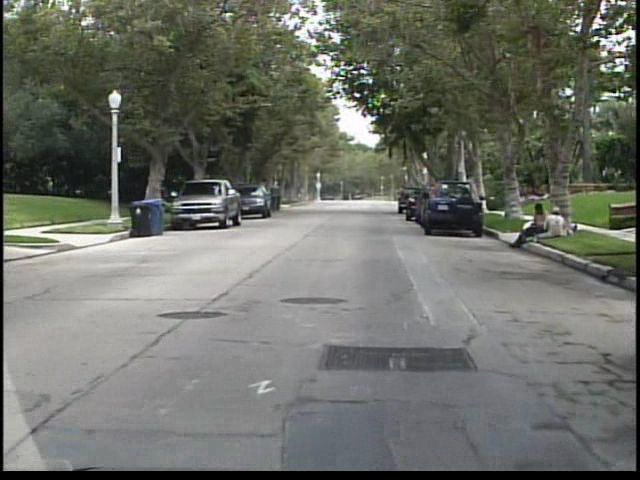person: (512, 202, 553, 250), (541, 206, 567, 236)
